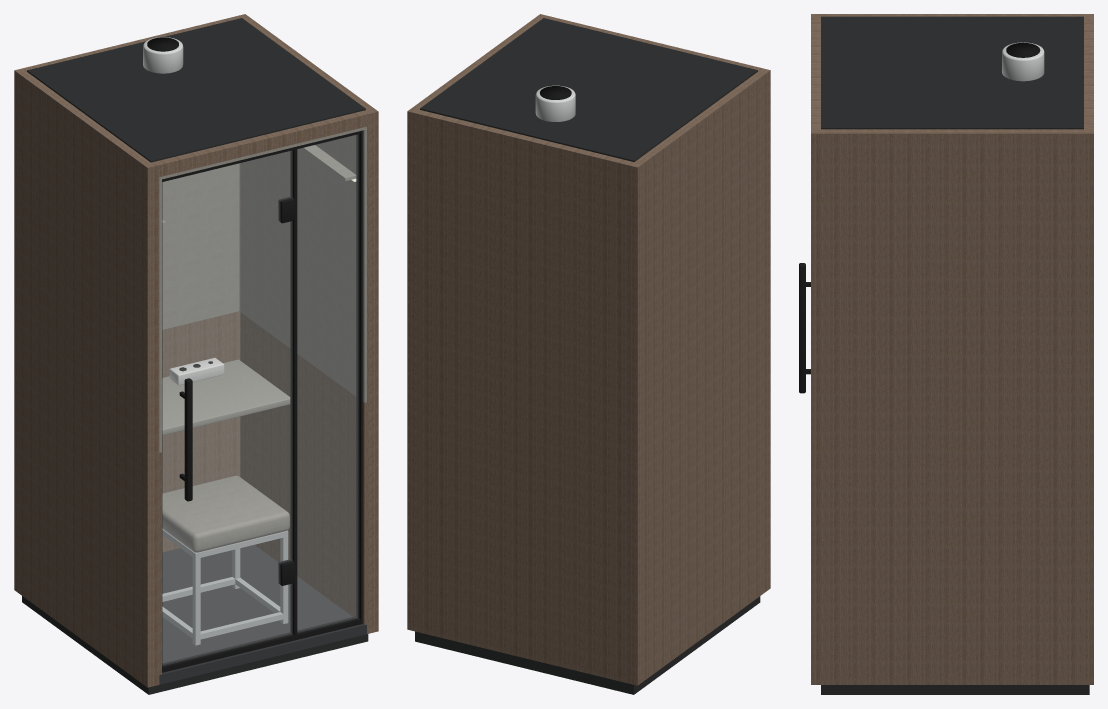
File: cabine-individual.glb
3 renders of one model, left to right at view 1: azimuth 30°, elevation 25°; view 2: azimuth 150°, elevation 25°; view 3: azimuth 270°, elevation 25°, orthographic. The views are drawn at different scales.
Visible parts, largest first — view 1: individual_corpo, porta_folha; view 2: individual_corpo; view 3: individual_corpo, porta_folha.
Boxes of the visible parts, box(x1,y1,x2,y2) form: individual_corpo: box(14, 14, 378, 694); porta_folha: box(162, 151, 294, 665); individual_corpo: box(407, 14, 770, 694); individual_corpo: box(811, 14, 1093, 694); porta_folha: box(799, 263, 810, 393).
Size of the model in its own units: 0.9999 by 2.29 by 1.04.
13 materials, 3 textured.
